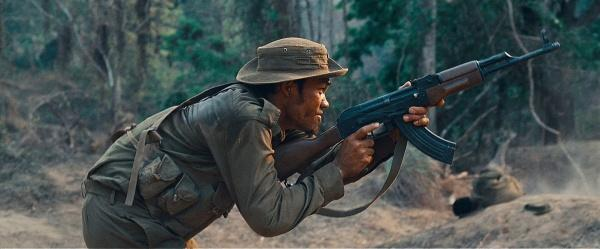rifle: (273, 41, 565, 185)
